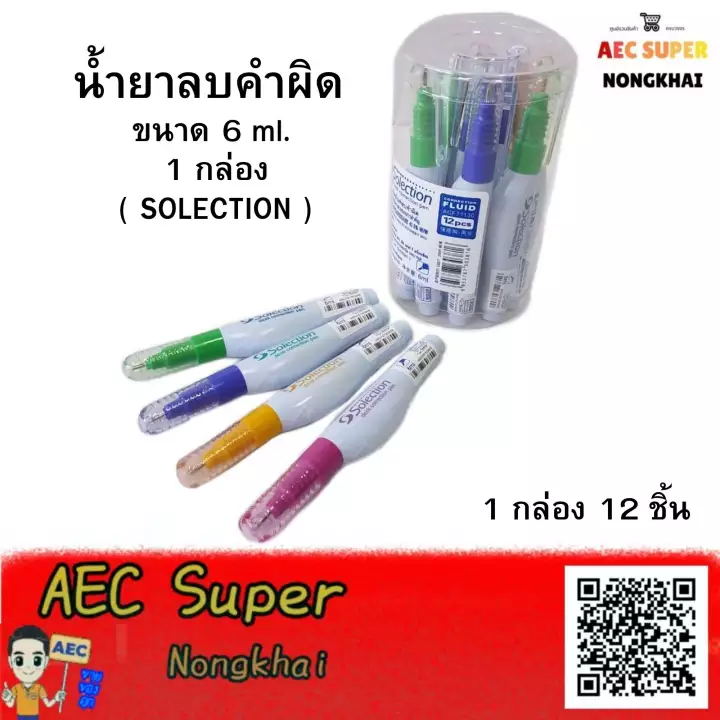Correction_fluid: (237, 332, 447, 547), (173, 317, 414, 494), (136, 301, 391, 439), (118, 287, 379, 384), (486, 87, 550, 330)
